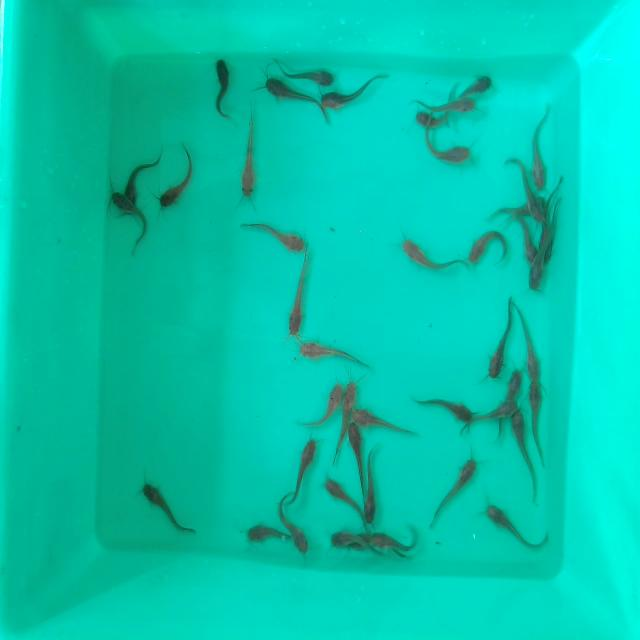lele: (138, 479, 196, 530), (435, 453, 478, 511), (399, 234, 462, 272), (239, 220, 306, 255), (160, 154, 195, 212), (424, 129, 475, 168), (287, 441, 318, 505), (486, 501, 528, 547), (279, 508, 316, 558), (417, 392, 472, 425), (256, 76, 312, 108), (288, 258, 310, 339), (304, 382, 344, 426), (354, 404, 403, 438), (468, 227, 508, 268), (125, 150, 154, 205), (238, 121, 258, 200), (320, 476, 358, 516), (528, 112, 547, 192), (513, 406, 532, 485), (506, 215, 538, 261), (320, 83, 377, 108), (299, 341, 366, 362), (486, 321, 510, 378), (522, 308, 540, 380), (282, 59, 338, 82), (528, 382, 546, 453), (477, 398, 514, 432), (240, 517, 280, 548), (513, 154, 536, 206), (346, 422, 365, 484), (492, 197, 544, 219), (212, 57, 230, 120), (372, 530, 418, 554), (540, 212, 562, 262), (110, 191, 142, 222), (451, 72, 494, 95), (362, 465, 378, 526), (422, 96, 480, 112), (504, 368, 526, 408), (340, 378, 358, 425), (413, 111, 454, 129), (528, 252, 544, 296), (326, 528, 351, 551), (350, 532, 373, 556)
